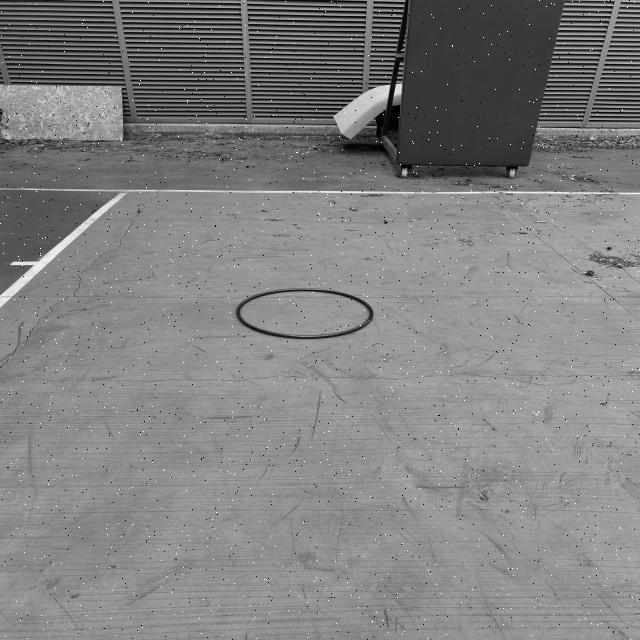Circle: (235, 288, 375, 340)
